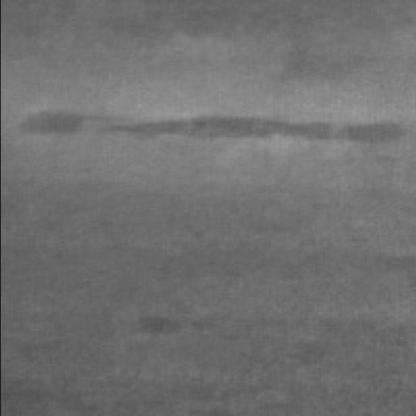inclusion: (154, 6, 406, 73), (89, 108, 410, 158), (15, 104, 133, 148), (129, 310, 233, 347)
